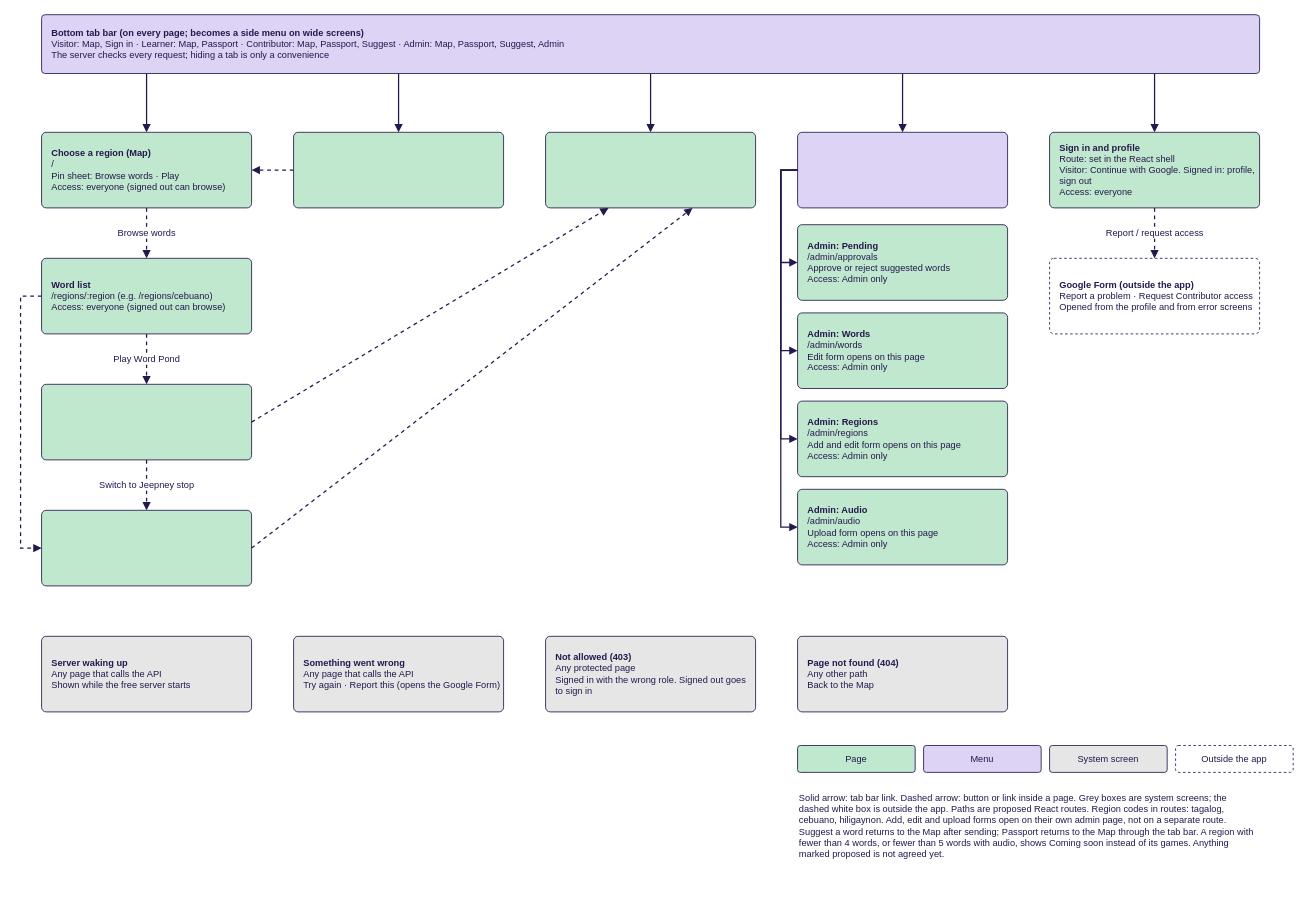
Some shapes in this 1309 by 903 pixel diagram are drawn without their labels. Each missing label, with the centre of its shape:
"Admin tab One tab, four sub-tabs Pending · Words · Regions · Audio" goes at [902,169].
"Jeepney stop (listening quiz) /play/listening/:region Access: signed in" goes at [146,547].
"My passport /passport Progress, Stickers and Badges tabs Access: signed in" goes at [650,169].
"Suggest a word /submit (tab label: Suggest) Access: Contributor and Admin only" goes at [398,169].
"Word Pond (matching game) /play/matching/:region Access: signed in" goes at [146,421].
